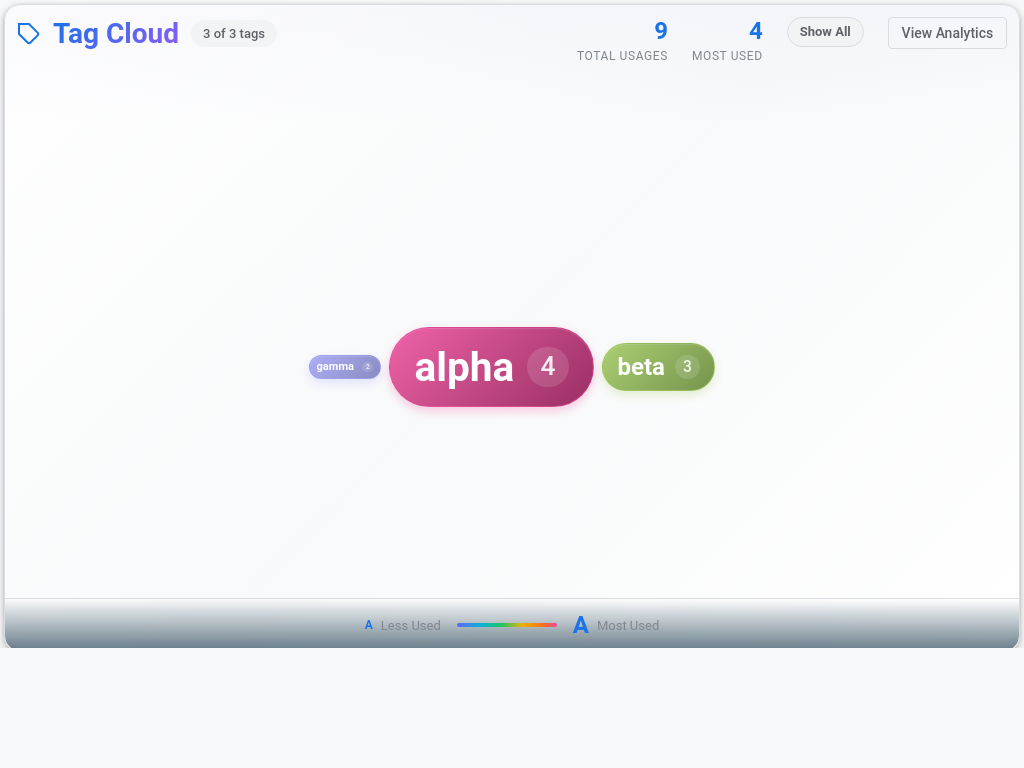
Scenario: TagCloud (React) › toggle persists show-all preference to localStorage
Click the button "Show All" at coordinates (825, 32), box [787,17,864,47]
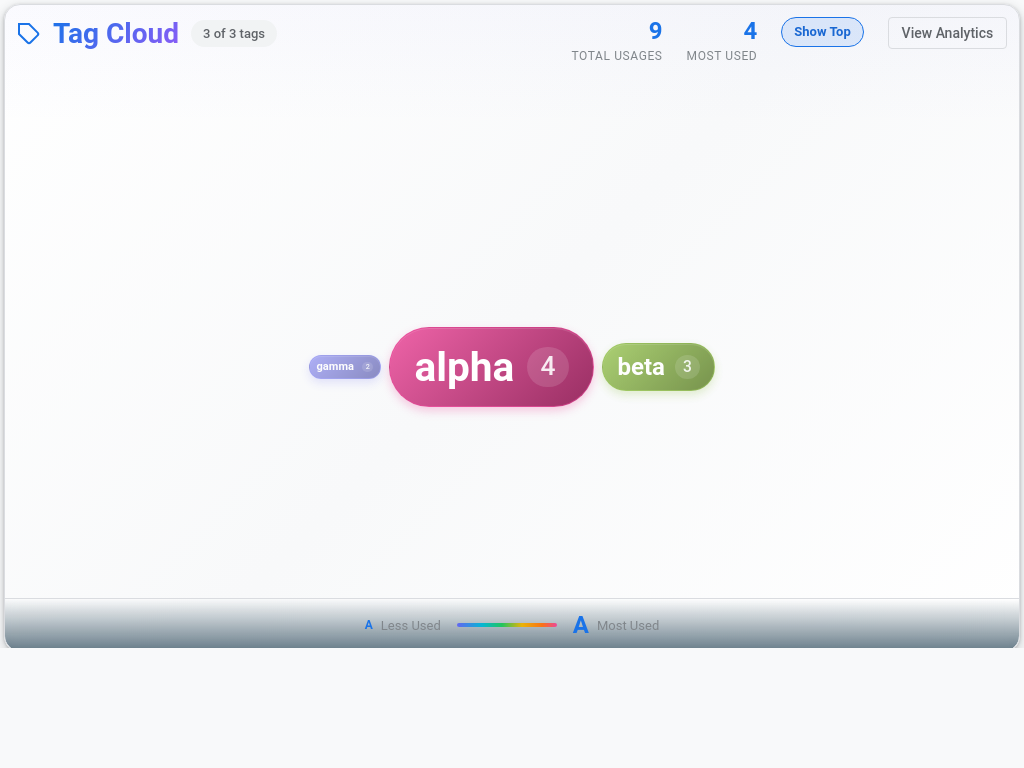
Expected: the button "Show Top" is shown, [781,17,864,47]
